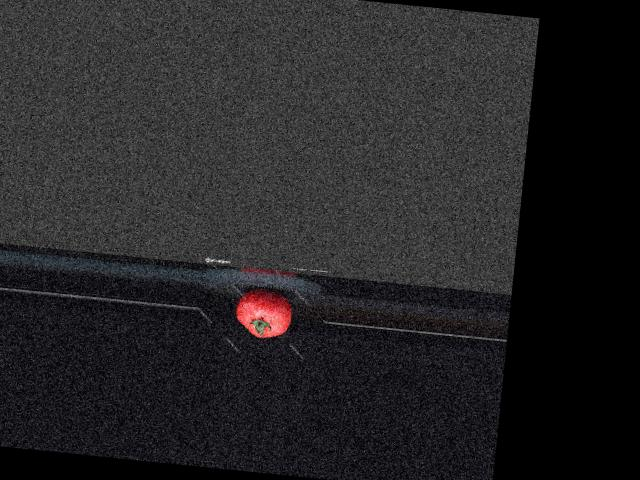tomato: (233, 286, 294, 341)
